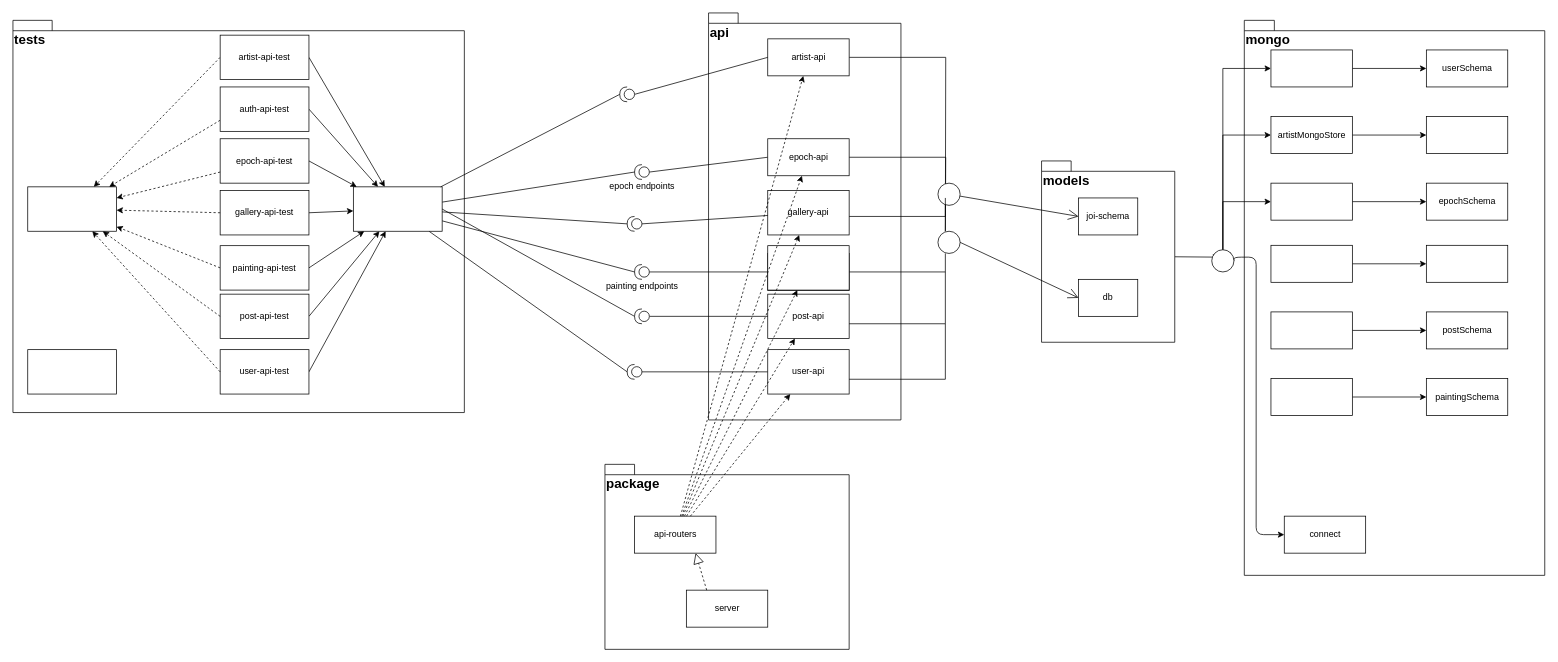
Image size: 1558x662. Some labels were removed from this diagram. Each missing label, with the centre of its shape:
"artist endpoints" belongs at (627,94).
"artistSchema" belongs at (1467,135).
"asteo-service" belongs at (397,208).
"epochMongoStore" belongs at (1311,201).
"fixtures" belongs at (72,208).
"gallery endpoints" belongs at (634,223).
"galleryMongoStore" belongs at (1311,263).
"gallerySchema" belongs at (1467,263).
"painting-api" belongs at (808,267).
"paintingMongoStore" belongs at (1311,397).
"post endpoints" belongs at (641,316).
"postMongoStore" belongs at (1311,330).
"test-utils" belongs at (72,371).
"user endpoints" belongs at (634,371).
"userMongoStore" belongs at (1311,68).
